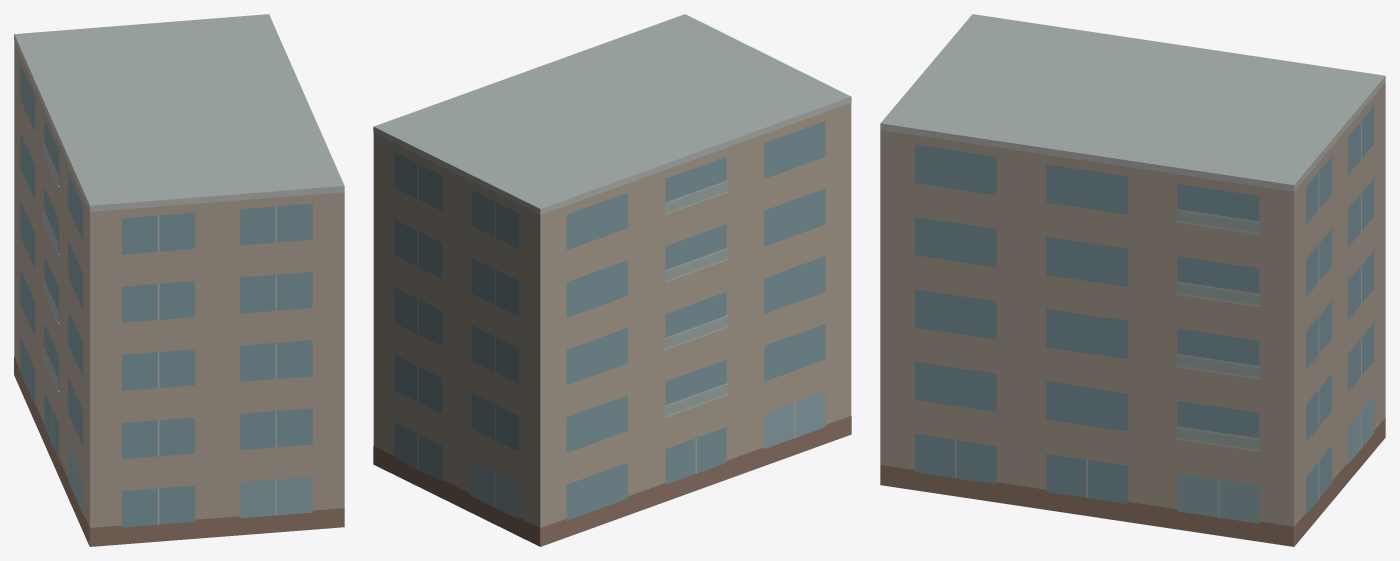
Rendered from survey-upis-32944922.glb.
3 views of the same model, side by side, from view 1: azimuth 30°, elevation 25°; view 2: azimuth 150°, elevation 25°; view 3: azimuth 270°, elevation 25° (orthographic). The views are drawn at different scales.
Parts seen in each view (by area): view 1: survey-upis-32944922.tmp; view 2: survey-upis-32944922.tmp; view 3: survey-upis-32944922.tmp.
Boxes of the visible parts, x1=… form: survey-upis-32944922.tmp: x1=14, y1=14, x2=344, y2=546; survey-upis-32944922.tmp: x1=373, y1=14, x2=851, y2=546; survey-upis-32944922.tmp: x1=880, y1=14, x2=1385, y2=546.
Size of the model in its own units: 13.61 by 13.4 by 16.98.
